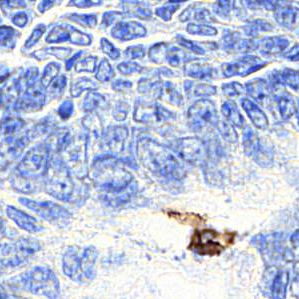Lymphocyte: (189, 227, 236, 256)
